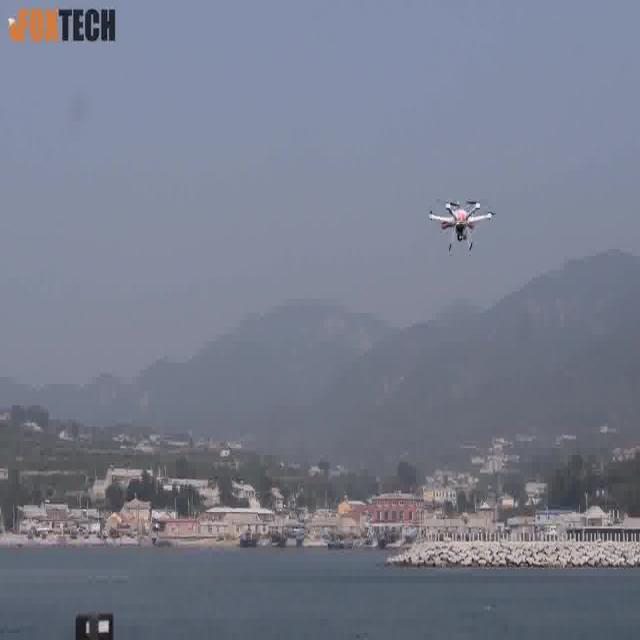drone: (426, 182, 504, 260)
